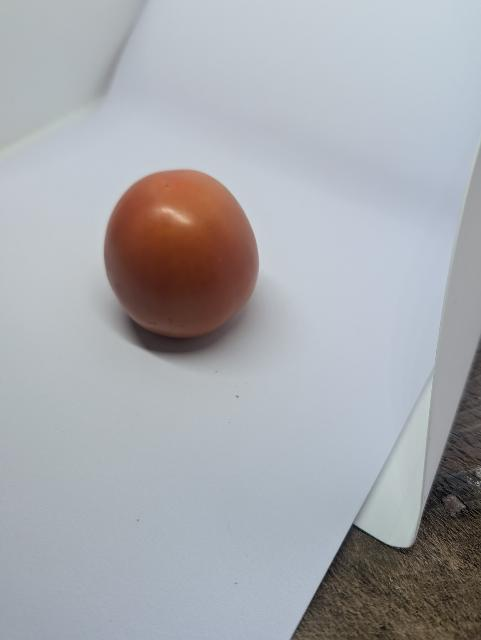red: (92, 162, 282, 351)
